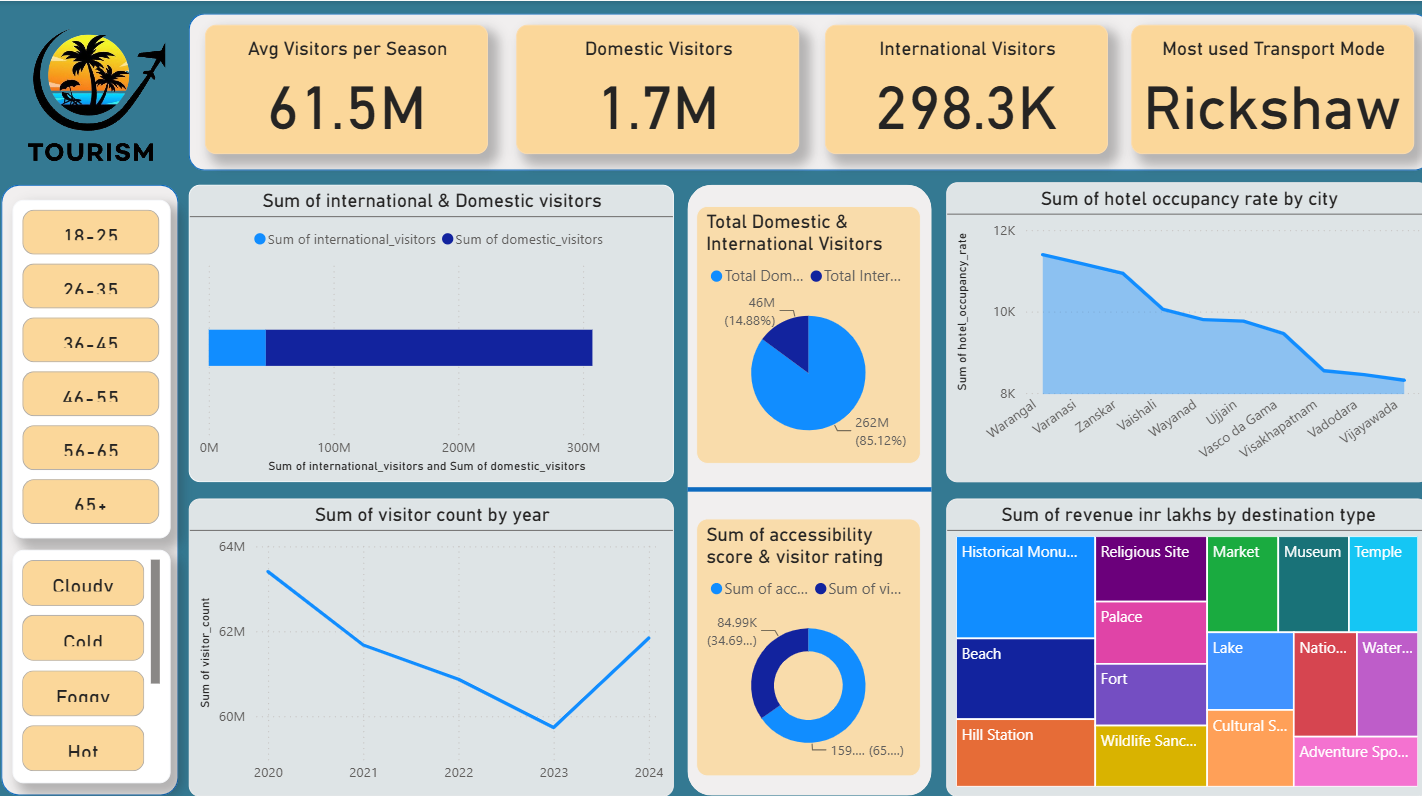

Layout of this report page (visuals, bound fields, positions):
{"tool":"powerbi","page":{"name":"Page 4","canvas":[1280,720],"ordinal":3},"visuals":[{"type":"shape","box":[168.2,11.3,1106.4,140],"z":0},{"type":"shape","box":[1.6,164.1,157.9,543.9],"z":1000},{"type":"advancedSlicerVisual","fields":{"Values":["main_data.age_group"]},"box":[10.9,176.6,140.7,301.7],"z":2000},{"type":"image","box":[10.9,7.8,140.7,143.8],"z":3000},{"type":"card","title":"Avg Visitors per Season","fields":{"Values":["main_data.Avg Visitors per Season"]},"box":[182.8,21,252.3,114.8],"z":4000},{"type":"card","title":"Domestic Visitors","fields":{"Values":["main_data.% Domestic visitors"]},"box":[459.4,21,252.3,114.8],"z":5000},{"type":"card","title":"International Visitors","fields":{"Values":["main_data.% International visitors"]},"box":[734.4,21,252.3,114.8],"z":6000},{"type":"card","title":"Most used Transport Mode","fields":{"Values":["main_data.Most Used Transport Mode"]},"box":[1007.7,21,252.3,114.8],"z":7000},{"type":"advancedSlicerVisual","fields":{"Values":["main_data.weather_condition"]},"box":[10.9,489.2,140.7,207.9],"z":8000},{"type":"barChart","title":"Sum of international & Domestic visitors","fields":{"Y":["Sum(main_data.international_visitors)","Sum(main_data.domestic_visitors)"]},"box":[168.2,163.4,431.9,265],"z":9000},{"type":"shape","box":[612.7,164.1,217.3,543.9],"z":10000},{"type":"lineChart","title":"Sum of visitor count by year","fields":{"Category":["main_data.year"],"Y":["Sum(main_data.visitor_count)"]},"box":[168.2,443.2,431.9,265.3],"z":11000},{"type":"treemap","title":"Sum of revenue inr lakhs by destination type","fields":{"Details":["main_data.destination_type"],"Values":["Sum(main_data.revenue_inr_lakhs)"]},"box":[842.7,443.2,430.3,265.3],"z":12000},{"type":"areaChart","title":"Sum of hotel occupancy rate by city","fields":{"Category":["main_data.city"],"Y":["Sum(main_data.hotel_occupancy_rate)"]},"box":[842.5,161,431.4,267.3],"z":13000},{"type":"pieChart","title":"Total Domestic  & International Visitors","fields":{"Y":["main_data.Sum of Domestic Visitors","main_data.Total International Visitors"]},"box":[620.5,182.9,200.1,229.8],"z":14000},{"type":"shape","box":[612.7,418.9,217.3,32.8],"z":15000},{"type":"donutChart","title":"Sum of accessibility score & visitor rating","fields":{"Y":["Sum(main_data.accessibility_score)","Sum(main_data.visitor_rating)"]},"box":[620.5,461.1,200.1,229.8],"z":16000}]}

Visuals, with their boxes in screenshot pixels (x1, y1, x2, y2), scaled from the page's 1280x720 canvas onto the 1422x796 screenshot:
shape: x1=187, y1=12, x2=1416, y2=167
shape: x1=2, y1=181, x2=177, y2=783
advancedSlicerVisual - main_data.age_group: x1=12, y1=195, x2=168, y2=529
image: x1=12, y1=9, x2=168, y2=168
"Avg Visitors per Season" card: x1=203, y1=23, x2=483, y2=150
"Domestic Visitors" card: x1=510, y1=23, x2=791, y2=150
"International Visitors" card: x1=816, y1=23, x2=1096, y2=150
"Most used Transport Mode" card: x1=1119, y1=23, x2=1400, y2=150
advancedSlicerVisual - main_data.weather_condition: x1=12, y1=541, x2=168, y2=771
"Sum of international & Domestic visitors" barChart: x1=187, y1=181, x2=667, y2=474
shape: x1=681, y1=181, x2=922, y2=783
"Sum of visitor count by year" lineChart: x1=187, y1=490, x2=667, y2=783
"Sum of revenue inr lakhs by destination type" treemap: x1=936, y1=490, x2=1414, y2=783
"Sum of hotel occupancy rate by city" areaChart: x1=936, y1=178, x2=1415, y2=474
"Total Domestic  & International Visitors" pieChart: x1=689, y1=202, x2=912, y2=456
shape: x1=681, y1=463, x2=922, y2=499
"Sum of accessibility score & visitor rating" donutChart: x1=689, y1=510, x2=912, y2=764
